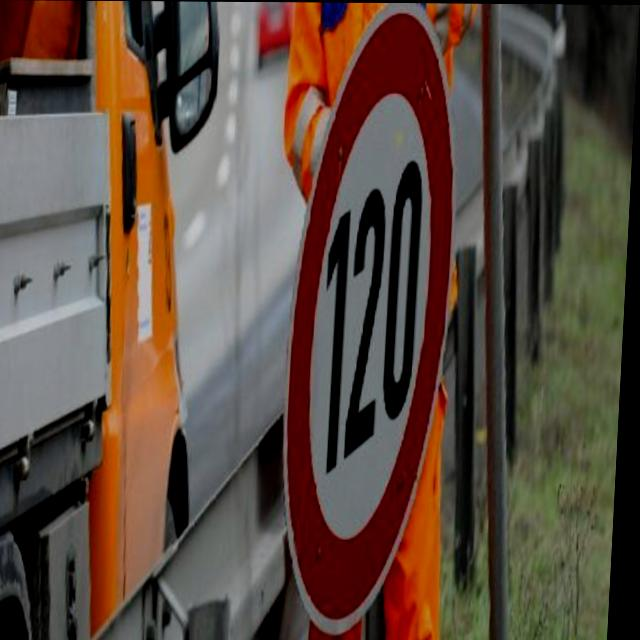limit120: (276, 12, 469, 640)
